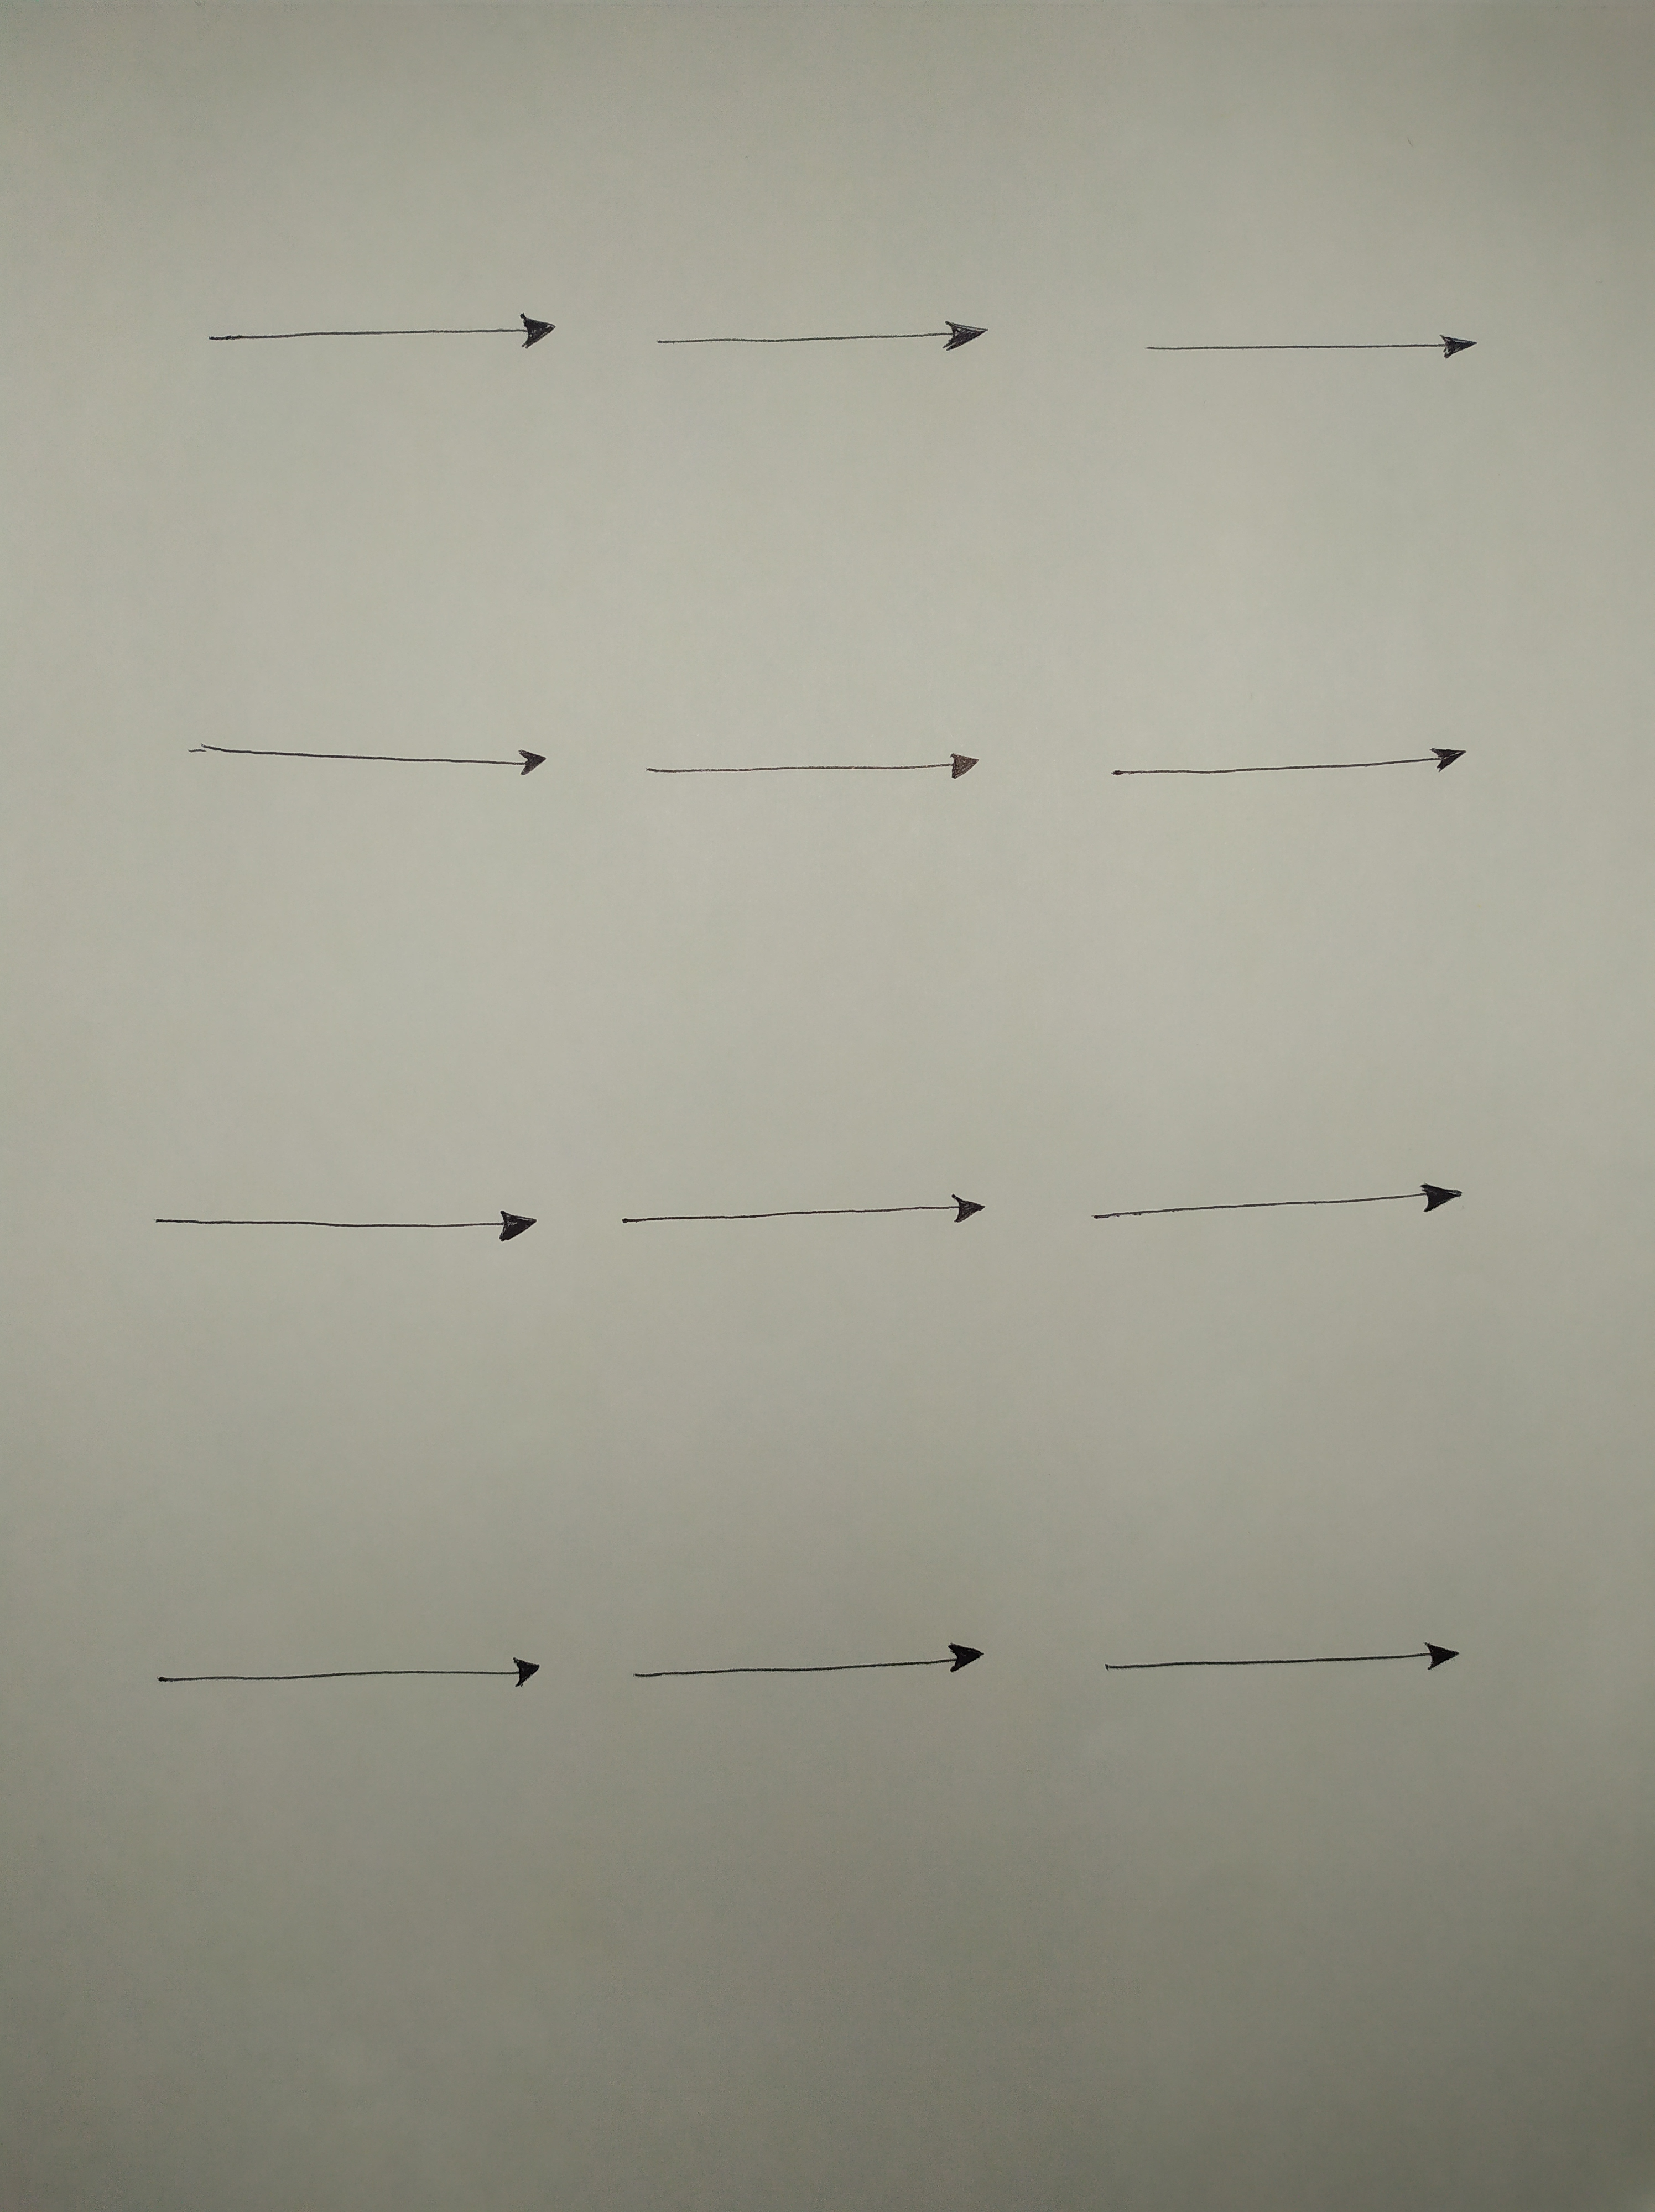arrow_line_right: (1066, 1614, 1509, 1717), (162, 707, 567, 808), (137, 1633, 575, 1725), (139, 1180, 577, 1267), (1074, 721, 1492, 811), (181, 285, 577, 375), (1102, 309, 1505, 389), (1067, 1164, 1488, 1241), (626, 297, 1031, 374), (593, 1164, 1014, 1237), (612, 735, 996, 808), (612, 1635, 1014, 1687)
